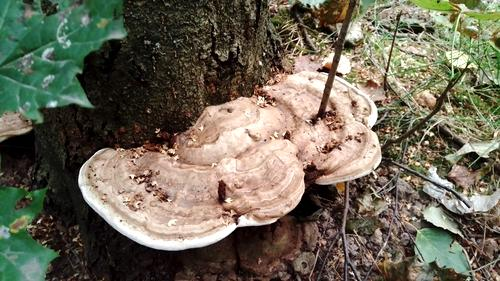Ganoderma - Fruit Body: (75, 70, 383, 250)
